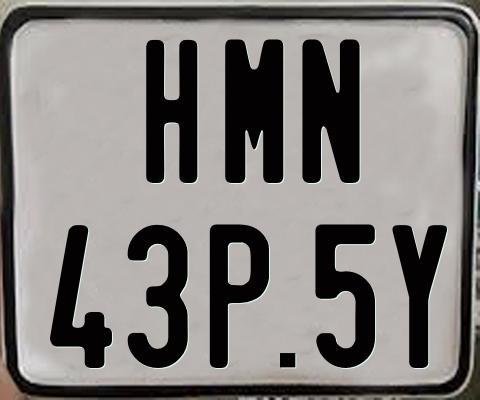3: (124, 224, 191, 373)
4: (50, 222, 116, 370)
5: (315, 223, 376, 370)
H: (143, 37, 196, 186)
M: (224, 39, 286, 185)
N: (299, 38, 362, 184)
P: (210, 221, 274, 370)
Y: (389, 222, 445, 366)
